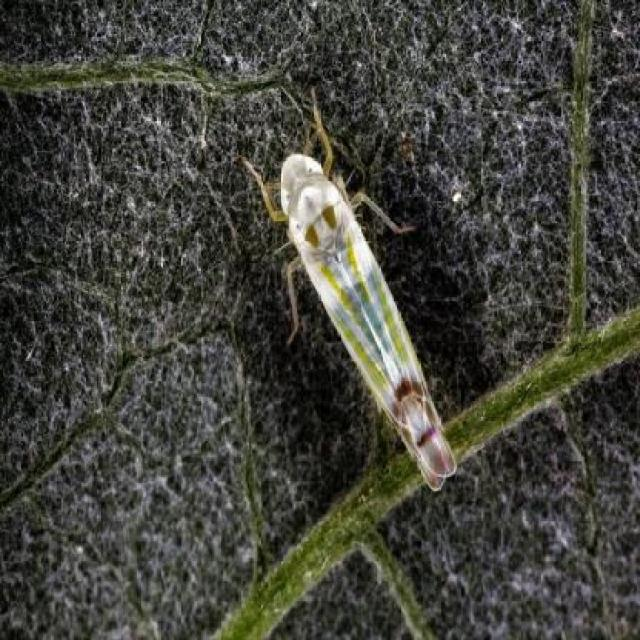green-leafhopper: (241, 87, 459, 494)
